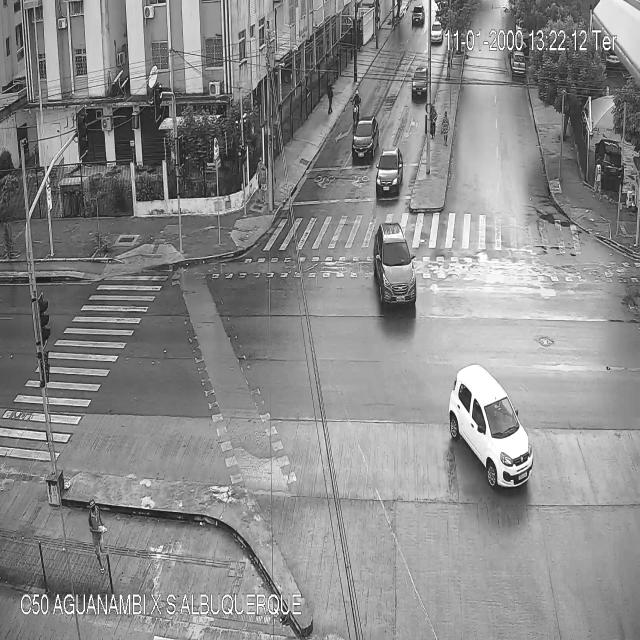Car: (449, 365, 533, 490), (372, 225, 417, 311), (375, 150, 404, 198), (353, 118, 376, 158), (411, 66, 430, 98), (412, 3, 424, 26), (512, 54, 524, 75), (432, 22, 442, 43)
Motorcycle: (352, 88, 360, 120)
